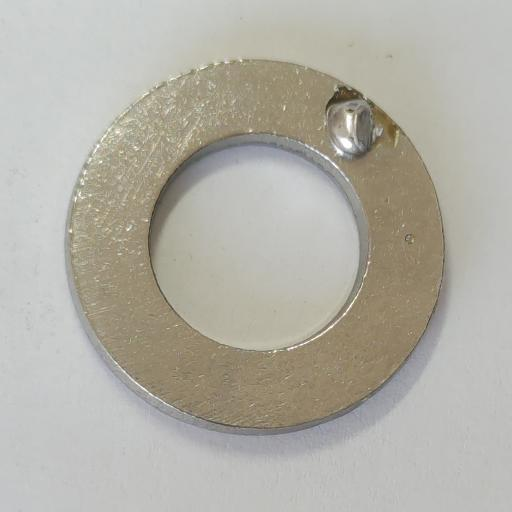excess_material: (326, 99, 384, 160)
